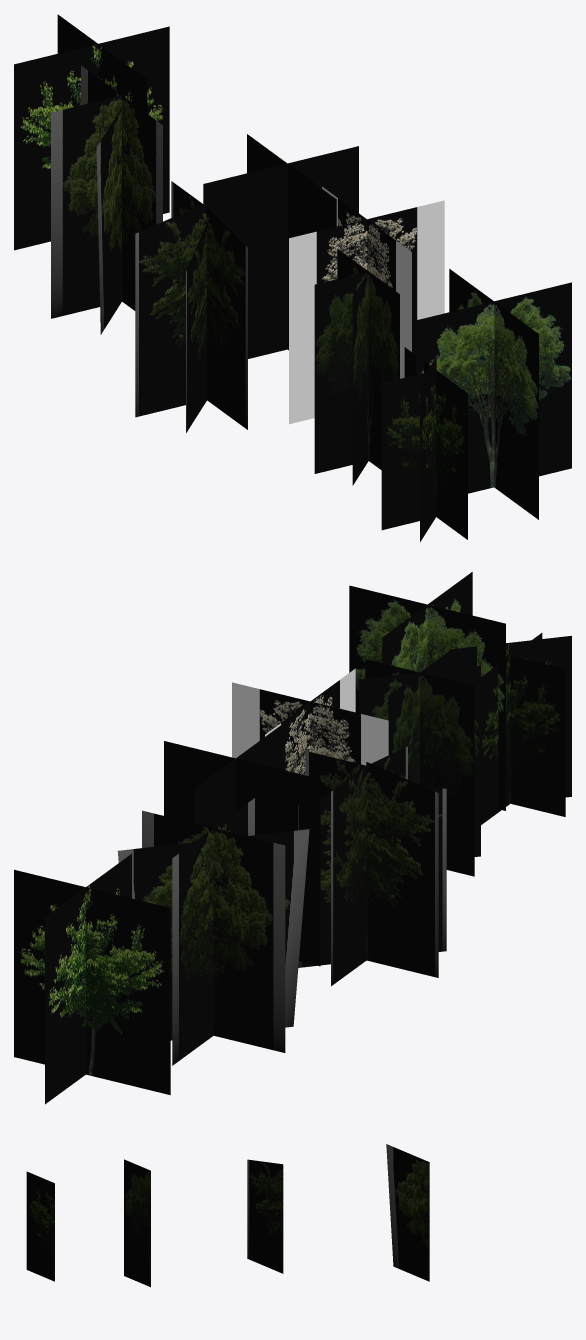
The model's file is KIN_AMB_TREES_L.glb.
3 renders of one model, top to bottom at view 1: azimuth 30°, elevation 25°; view 2: azimuth 150°, elevation 25°; view 3: azimuth 270°, elevation 25°, orthographic. The views are drawn at different scales.
Parts seen in each view (by area): view 1: bone4_12, bone4_15, bone4_16, bone4_14, bone4_17, bone4_13; view 2: bone4_15, bone4_16, bone4_17, bone4_12, bone4_13, bone4_14; view 3: bone4_16, bone4_15, bone4_13, bone4_12.
Part boxes in pixels (x1,y1,x2,y2): bone4_12: [381, 269, 571, 541]; bone4_15: [135, 134, 358, 432]; bone4_16: [51, 65, 162, 334]; bone4_14: [289, 186, 444, 424]; bone4_17: [14, 14, 169, 250]; bone4_13: [314, 249, 399, 485]; bone4_15: [164, 722, 446, 986]; bone4_16: [117, 798, 309, 1065]; bone4_17: [14, 854, 170, 1104]; bone4_12: [349, 572, 571, 824]; bone4_13: [359, 650, 480, 876]; bone4_14: [232, 668, 388, 774]; bone4_16: [386, 1144, 429, 1281]; bone4_15: [247, 1159, 283, 1273]; bone4_13: [124, 1159, 150, 1287]; bone4_12: [26, 1171, 54, 1281].
Size of the model in its own units: 35.15 by 26.82 by 105.
Materials: 7 (7 with a texture image).
